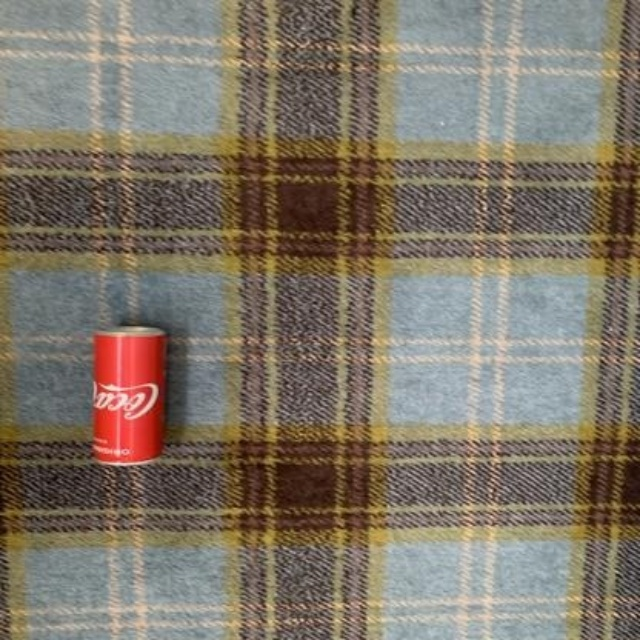trash: (92, 326, 166, 463)
